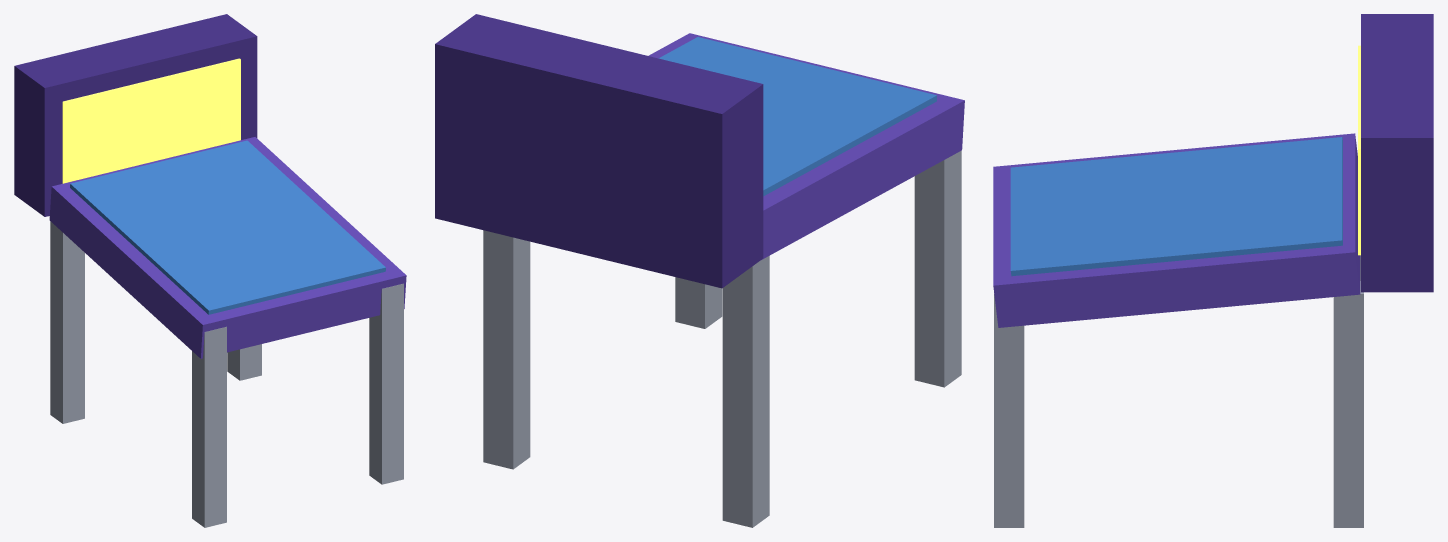
Rendered from pinball.glb.
3 views of the same model, side by side, from view 1: azimuth 30°, elevation 25°; view 2: azimuth 150°, elevation 25°; view 3: azimuth 270°, elevation 25° (orthographic). The views are drawn at different scales.
Parts seen in each view (by area): view 1: pinball; view 2: pinball; view 3: pinball.
Boxes of the visible parts, x1=… form: pinball: x1=14, y1=14, x2=406, y2=527; pinball: x1=435, y1=14, x2=964, y2=527; pinball: x1=993, y1=14, x2=1433, y2=527.
Size of the model in its own units: 0.5 by 0.74 by 0.75.
Materials: 1 (1 with a texture image).
